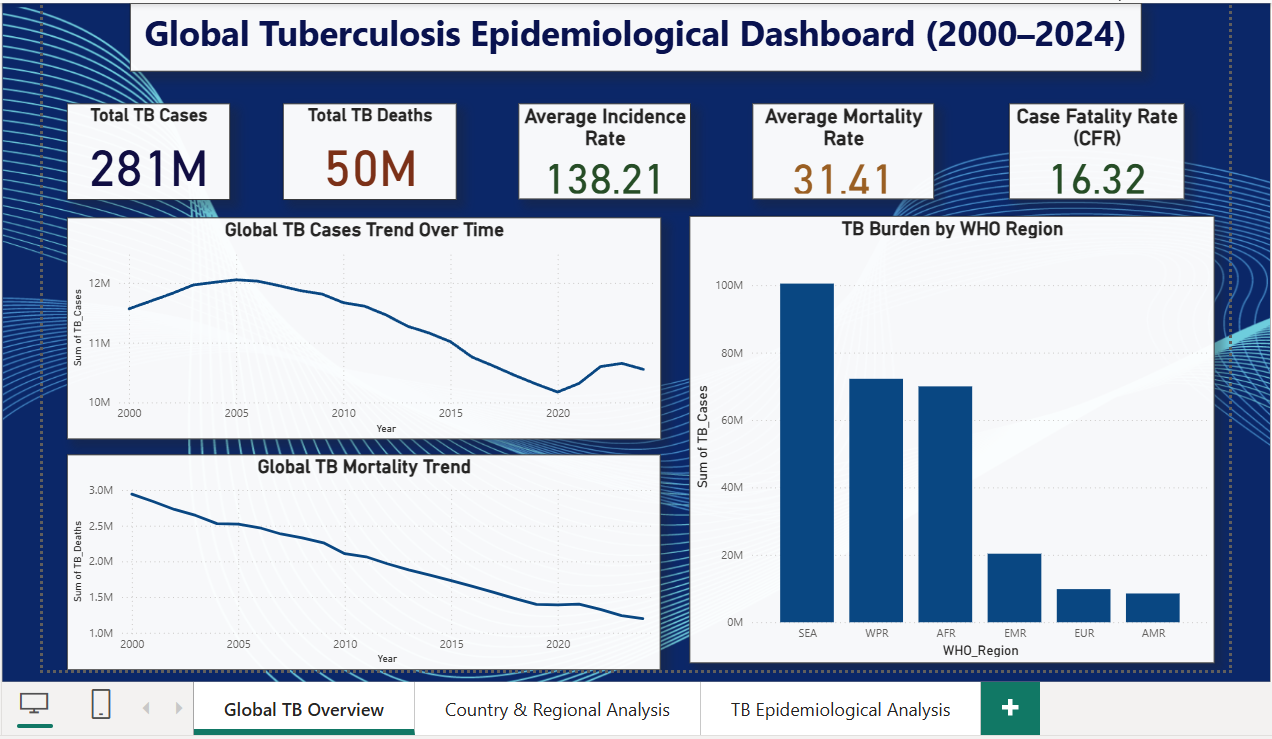

This screenshot's page, from the dashboard's own definition file:
{"tool":"powerbi","page":{"name":"Global TB Overview","canvas":[1280,720],"ordinal":0},"visuals":[{"type":"textbox","box":[94.5,0,1092.3,73.7],"z":0},{"type":"card","title":"Total TB Cases","fields":{"Values":["Sum(TB_Clean_Dataset.TB_Cases)"]},"box":[26.5,107.7,175.7,103.9],"z":1000},{"type":"card","title":"Total TB Deaths","fields":{"Values":["Sum(TB_Clean_Dataset.TB_Deaths)"]},"box":[258.9,107.7,187.1,103.9],"z":2000},{"type":"card","title":"Average Incidence Rate","fields":{"Values":["Avg(TB_Clean_Dataset.TB_Incidence_Rate)"]},"box":[513.3,108.5,186.2,103.6],"z":3000},{"type":"card","title":"Average Mortality Rate","fields":{"Values":["Avg(TB_Clean_Dataset.TB_Mortality_Rate)"]},"box":[765.9,108.5,195.9,103.6],"z":4000},{"type":"card","title":"Case Fatality Rate (CFR)","fields":{"Values":["Avg(TB_Clean_Dataset.Case_Fatality_Rate)"]},"box":[1042.8,108.5,189.4,103.6],"z":5000},{"type":"lineChart","title":"Global TB Cases Trend Over Time","fields":{"Category":["TB_Clean_Dataset.Year"],"Y":["Sum(TB_Clean_Dataset.TB_Cases)"]},"box":[25.9,231.5,641.2,239.6],"z":6000},{"type":"lineChart","title":"Global TB Mortality Trend","fields":{"Category":["TB_Clean_Dataset.Year"],"Y":["Sum(TB_Clean_Dataset.TB_Deaths)"]},"box":[26.5,487.6,640.6,232.4],"z":7000},{"type":"clusteredColumnChart","title":"TB Burden by WHO Region","fields":{"Category":["TB_Clean_Dataset.WHO_Region"],"Y":["Sum(TB_Clean_Dataset.TB_Cases)"]},"box":[697.9,229.9,566.7,482.5],"z":8000}]}

Visuals, with their boxes on the page's 1280x720 design canvas (x1, y1, x2, y2). These are canvas units, not pixel positions in the 1272x739 screenshot, which may show the page scaled, cropped or inside an application window:
textbox: bbox=[94, 0, 1187, 74]
"Total TB Cases" card: bbox=[26, 108, 202, 212]
"Total TB Deaths" card: bbox=[259, 108, 446, 212]
"Average Incidence Rate" card: bbox=[513, 108, 700, 212]
"Average Mortality Rate" card: bbox=[766, 108, 962, 212]
"Case Fatality Rate (CFR)" card: bbox=[1043, 108, 1232, 212]
"Global TB Cases Trend Over Time" lineChart: bbox=[26, 232, 667, 471]
"Global TB Mortality Trend" lineChart: bbox=[26, 488, 667, 720]
"TB Burden by WHO Region" clusteredColumnChart: bbox=[698, 230, 1265, 712]
